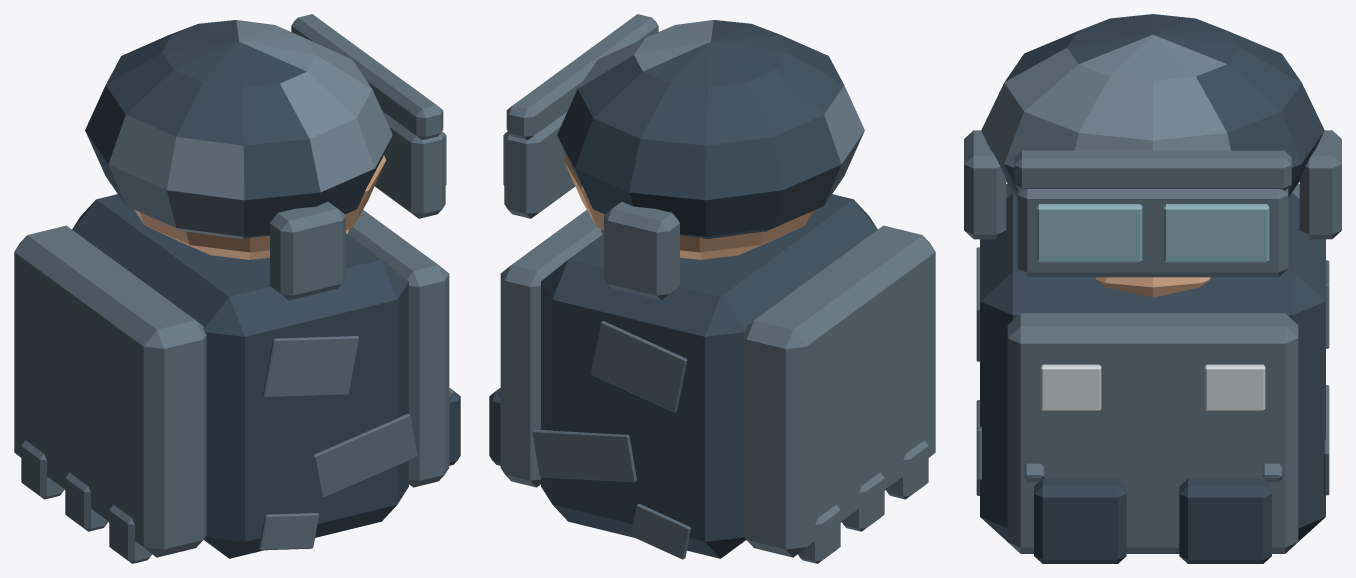
The model's file is steel-recon.carbon-camo.glb.
The picture shows the model from 3 angles, left to right: view 1: azimuth 30°, elevation 25°; view 2: azimuth 150°, elevation 25°; view 3: azimuth 270°, elevation 25°; orthographic projection. The views are drawn at different scales.
Visible parts, largest first — view 1: steel-recon_carbon-camo__main__torso_finish_657682_0.03, steel-recon_carbon-camo__main__torso_finish_3c4d5b_0.03, steel-recon_carbon-camo__main__head_finish_3c4d5b_0.03|finis, steel-recon_carbon-camo__main__head_finish_657682_0.03, steel-recon_carbon-camo__main__torso_finish_60717e_0.03, steel-recon_carbon-camo__main__head_finish_e2b28e_0.03; view 2: steel-recon_carbon-camo__main__torso_finish_657682_0.03, steel-recon_carbon-camo__main__torso_finish_3c4d5b_0.03, steel-recon_carbon-camo__main__head_finish_3c4d5b_0.03|finis, steel-recon_carbon-camo__main__head_finish_657682_0.03, steel-recon_carbon-camo__main__torso_finish_60717e_0.03, steel-recon_carbon-camo__main__head_finish_e2b28e_0.03; view 3: steel-recon_carbon-camo__main__torso_finish_657682_0.03, steel-recon_carbon-camo__main__torso_finish_3c4d5b_0.03, steel-recon_carbon-camo__main__head_finish_3c4d5b_0.03|finis, steel-recon_carbon-camo__main__head_finish_657682_0.03, steel-recon_carbon-camo__main__head_finish_91b6c0_0.03, steel-recon_carbon-camo__main__torso_finish_d8e1e4_0.03, steel-recon_carbon-camo__main__torso_finish_60717e_0.03, steel-recon_carbon-camo__main__head_finish_e2b28e_0.03.
Boxes of the visible parts, bbox=[...] form: steel-recon_carbon-camo__main__torso_finish_657682_0.03: bbox=[14, 210, 453, 563]; steel-recon_carbon-camo__main__torso_finish_3c4d5b_0.03: bbox=[72, 194, 460, 558]; steel-recon_carbon-camo__main__head_finish_3c4d5b_0.03|finis: bbox=[85, 20, 392, 239]; steel-recon_carbon-camo__main__head_finish_657682_0.03: bbox=[270, 14, 445, 300]; steel-recon_carbon-camo__main__torso_finish_60717e_0.03: bbox=[258, 336, 417, 550]; steel-recon_carbon-camo__main__head_finish_e2b28e_0.03: bbox=[135, 155, 385, 259]; steel-recon_carbon-camo__main__torso_finish_657682_0.03: bbox=[496, 210, 935, 563]; steel-recon_carbon-camo__main__torso_finish_3c4d5b_0.03: bbox=[489, 194, 877, 558]; steel-recon_carbon-camo__main__head_finish_3c4d5b_0.03|finis: bbox=[557, 20, 864, 239]; steel-recon_carbon-camo__main__head_finish_657682_0.03: bbox=[504, 14, 679, 300]; steel-recon_carbon-camo__main__torso_finish_60717e_0.03: bbox=[532, 321, 690, 559]; steel-recon_carbon-camo__main__head_finish_e2b28e_0.03: bbox=[564, 155, 814, 259]; steel-recon_carbon-camo__main__torso_finish_657682_0.03: bbox=[1006, 183, 1299, 553]; steel-recon_carbon-camo__main__torso_finish_3c4d5b_0.03: bbox=[980, 193, 1325, 563]; steel-recon_carbon-camo__main__head_finish_3c4d5b_0.03|finis: bbox=[981, 14, 1324, 197]; steel-recon_carbon-camo__main__head_finish_657682_0.03: bbox=[964, 130, 1341, 277]; steel-recon_carbon-camo__main__head_finish_91b6c0_0.03: bbox=[1036, 204, 1269, 262]; steel-recon_carbon-camo__main__torso_finish_d8e1e4_0.03: bbox=[1040, 364, 1265, 410]; steel-recon_carbon-camo__main__torso_finish_60717e_0.03: bbox=[976, 247, 1329, 495]; steel-recon_carbon-camo__main__head_finish_e2b28e_0.03: bbox=[1095, 277, 1210, 297].
Size of the model in its own units: 30.65 by 39.5 by 28.6.
